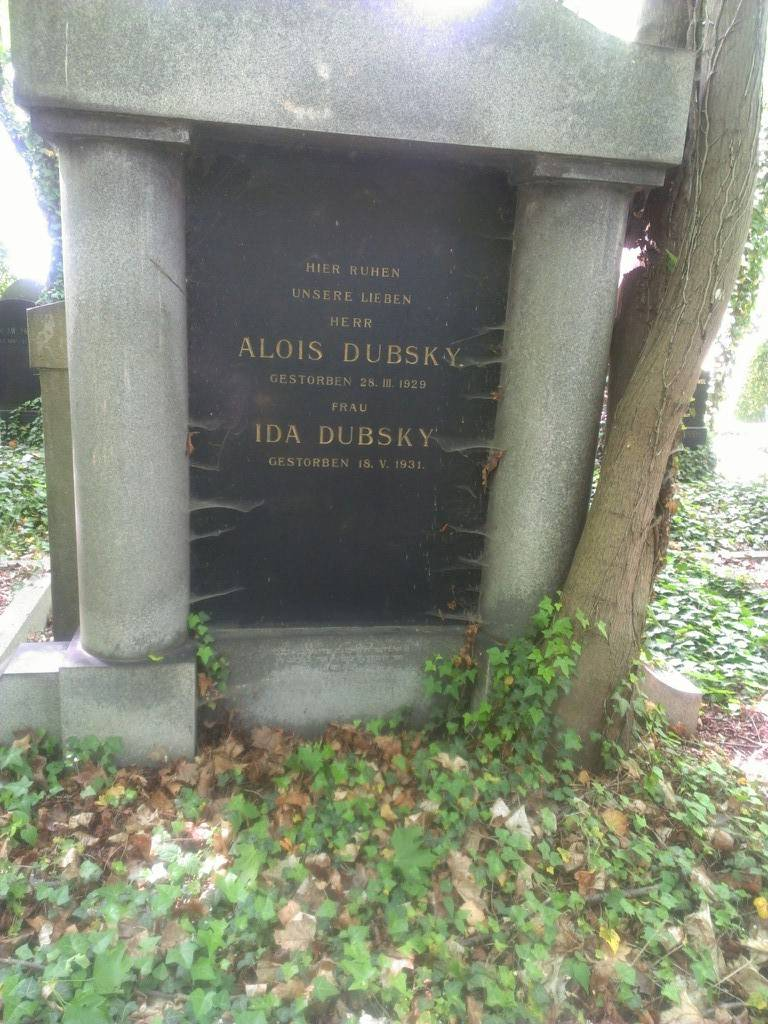mausoleum: (0, 0, 768, 784)
